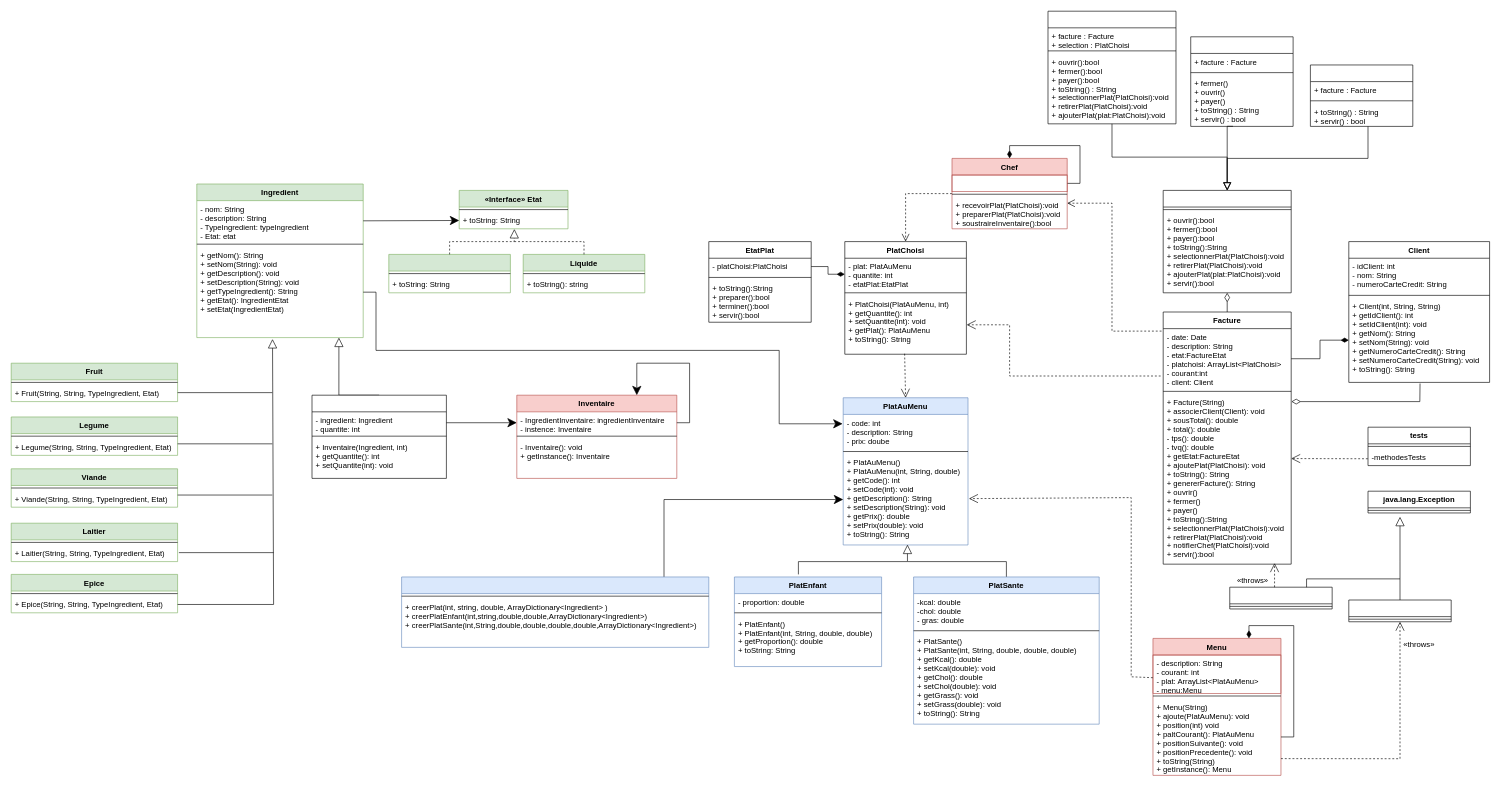
Image size: 1501x788. Some labels were removed from this diagram. Here are the shapes that lost their labels. From the top down, the box of each, then its label:
(1047, 11, 1176, 124): EtatOuvert
(1190, 36, 1293, 126): EtatFermer
(1310, 64, 1413, 126): EtatPayer
(951, 174, 1067, 192): - chef:Chef
(1163, 190, 1291, 293): «interface» FactureEtat
(388, 254, 510, 293): Solide
(311, 395, 446, 478): IngredientInventaire
(401, 576, 709, 647): PlatFactory
(1229, 587, 1332, 609): FactureException
(1348, 599, 1451, 622): MenuException
